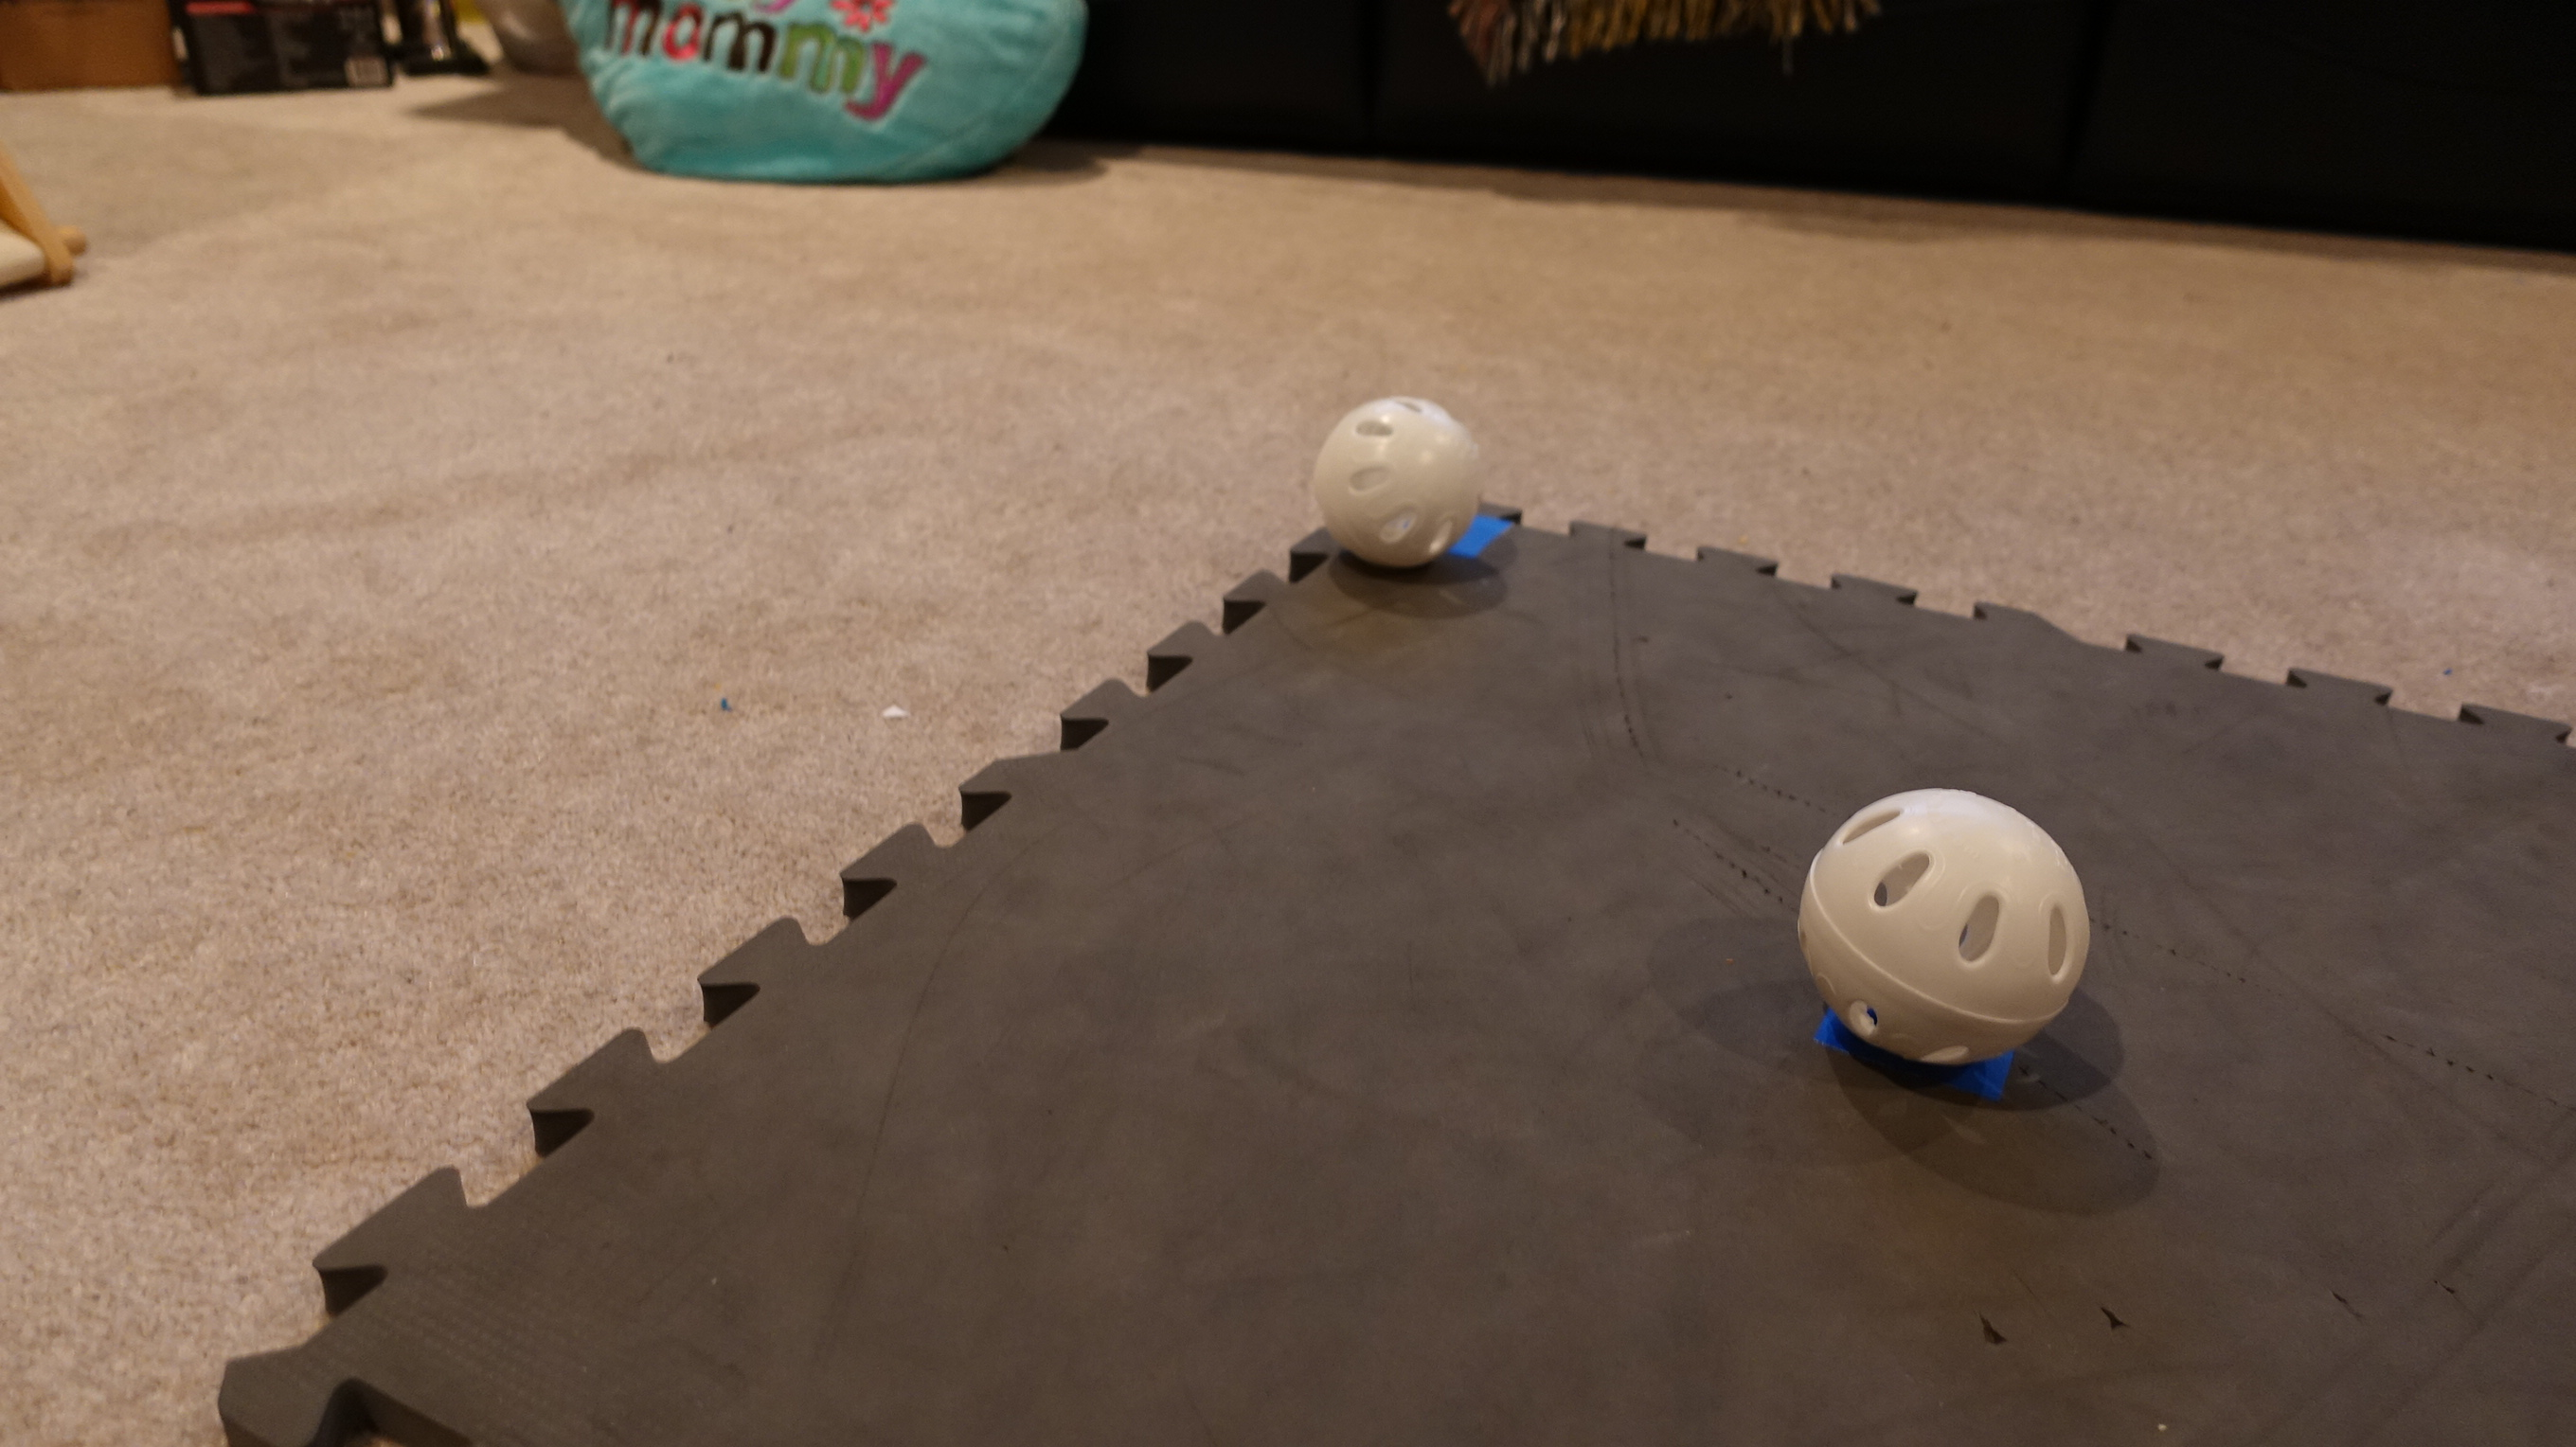silver: (1792, 782, 2111, 1084), (1306, 391, 1488, 578)
